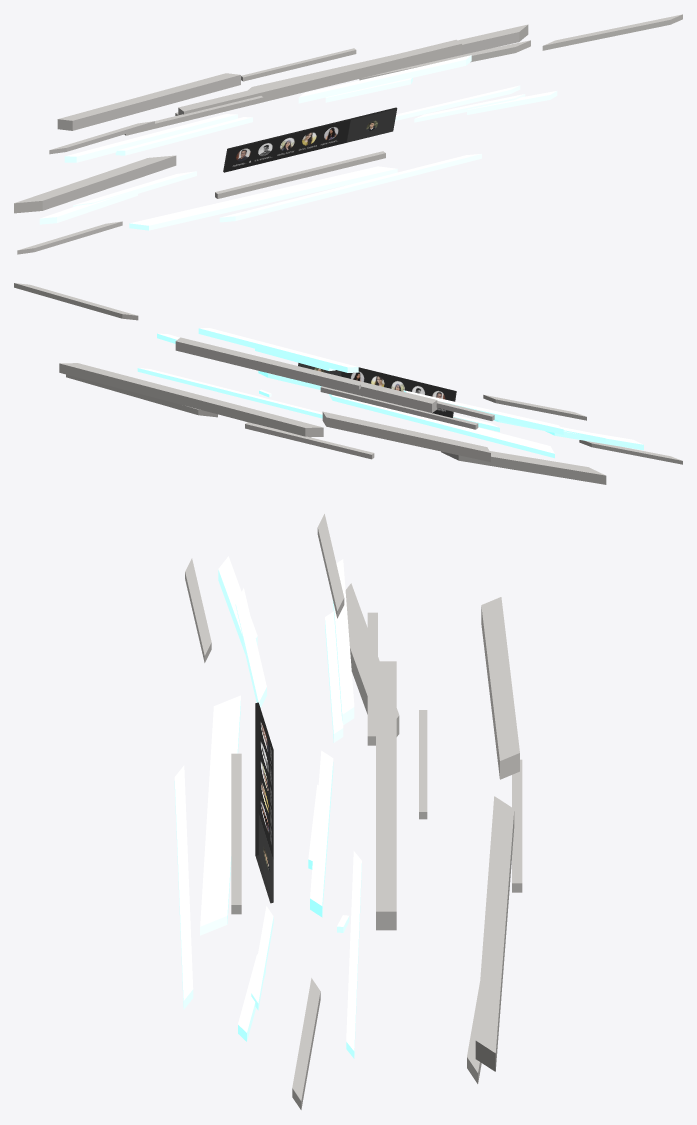
Rendered from xrpeeps_1.glb.
3 renders of one model, top to bottom at view 1: azimuth 30°, elevation 25°; view 2: azimuth 150°, elevation 25°; view 3: azimuth 270°, elevation 25°, orthographic. The views are drawn at different scales.
Visible parts, largest first — view 1: xrpeeps, Cube.004, Cube.023, Cube.008, Cube, Cube.021, Cube.005, Cube.009, Cube.012, Cube.024, Cube.015, Cube.019 (+11 smaller); view 2: Cube.012, Cube.004, Cube.008, Cube.023, Cube, xrpeeps, Cube.005, Cube.014, Cube.024, Cube.011, Cube.009, Cube.015 (+8 smaller); view 3: Cube.023, Cube.012, Cube.004, Cube.008, xrpeeps, Cube.021, Cube.005, Cube.014, Cube, Cube.009, Cube.024, Cube.015 (+9 smaller).
Part boxes in pixels (x1=…): xrpeeps: x1=223, y1=107, x2=397, y2=172; Cube.004: x1=178, y1=39, x2=461, y2=115; Cube.023: x1=129, y1=166, x2=397, y2=230; Cube.008: x1=57, y1=73, x2=240, y2=130; Cube: x1=14, y1=155, x2=176, y2=213; Cube.021: x1=219, y1=154, x2=481, y2=222; Cube.005: x1=298, y1=55, x2=471, y2=103; Cube.009: x1=64, y1=114, x2=237, y2=162; Cube.012: x1=248, y1=24, x2=528, y2=90; Cube.024: x1=215, y1=151, x2=385, y2=198; Cube.015: x1=542, y1=14, x2=682, y2=50; Cube.019: x1=115, y1=117, x2=252, y2=155; Cube.012: x1=59, y1=363, x2=323, y2=437; Cube.004: x1=175, y1=337, x2=437, y2=412; Cube.008: x1=322, y1=411, x2=490, y2=462; Cube.023: x1=329, y1=394, x2=554, y2=458; Cube: x1=441, y1=451, x2=606, y2=484; xrpeeps: x1=298, y1=363, x2=456, y2=417; Cube.005: x1=198, y1=328, x2=358, y2=372; Cube.014: x1=137, y1=368, x2=322, y2=418; Cube.024: x1=320, y1=386, x2=478, y2=429; Cube.011: x1=245, y1=422, x2=374, y2=459; Cube.009: x1=404, y1=390, x2=563, y2=434; Cube.015: x1=14, y1=283, x2=138, y2=320; Cube.023: x1=200, y1=695, x2=240, y2=935; Cube.012: x1=475, y1=796, x2=514, y2=1071; Cube.004: x1=376, y1=661, x2=396, y2=930; Cube.008: x1=481, y1=597, x2=519, y2=779; xrpeeps: x1=255, y1=702, x2=273, y2=903; Cube.021: x1=174, y1=765, x2=193, y2=1009; Cube.005: x1=310, y1=750, x2=333, y2=917; Cube.014: x1=346, y1=851, x2=361, y2=1058; Cube: x1=345, y1=583, x2=399, y2=736; Cube.009: x1=332, y1=559, x2=354, y2=724; Cube.024: x1=231, y1=753, x2=241, y2=914; Cube.015: x1=292, y1=978, x2=320, y2=1109.
Bounding box in the file's own units: 210 × 22.29 × 49.28.
3 materials, 1 textured.
